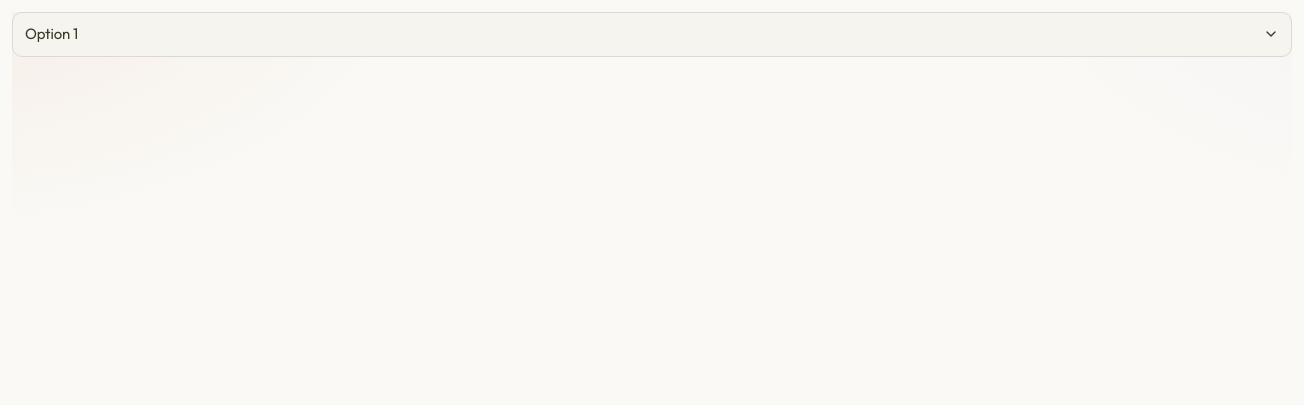
Scenario: Select › filters when there are more than seven options
Click the button with aria-label "Status" at (52, 34), box [12, 12, 1292, 56]
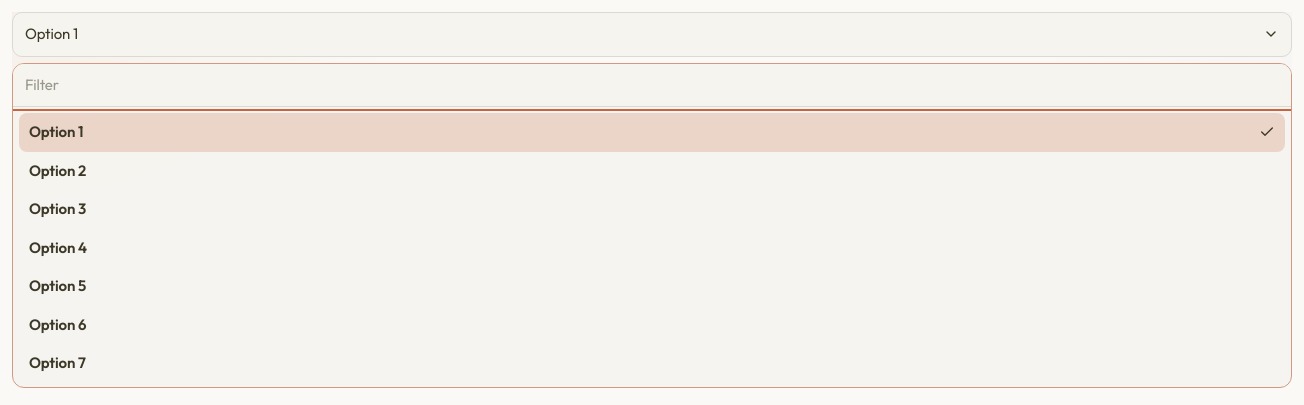
Type "option 8" into the dropdown named "Filter Status" at (652, 85), box [13, 64, 1291, 107]
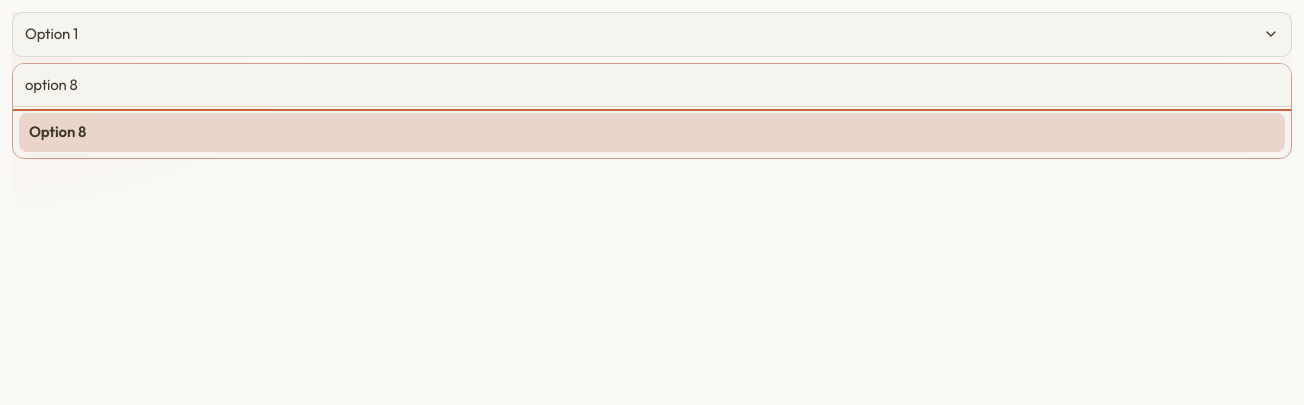
Check: the number of options is 1, box [19, 113, 1285, 152]
Press Enter
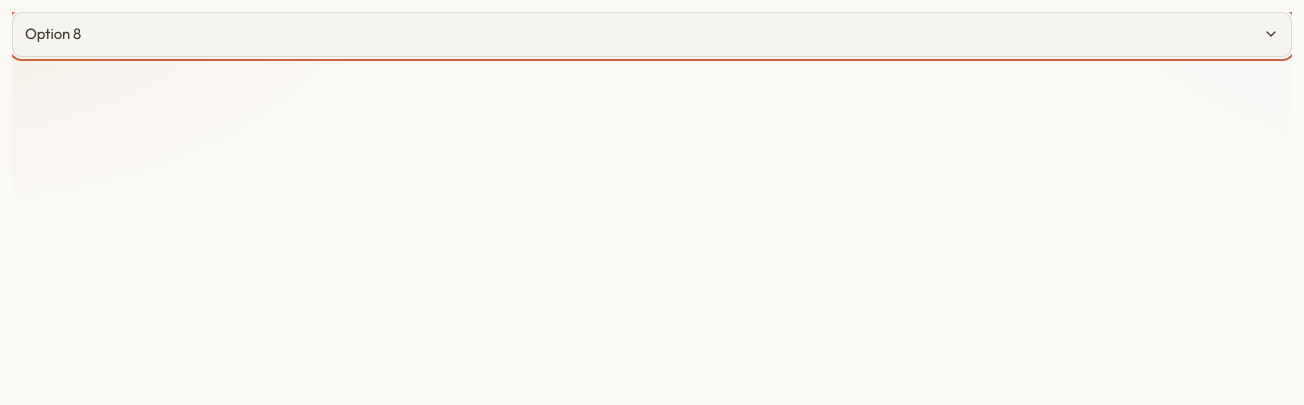
Check: the button with aria-label "Status" reads "Option 8", box [12, 12, 1292, 56]
